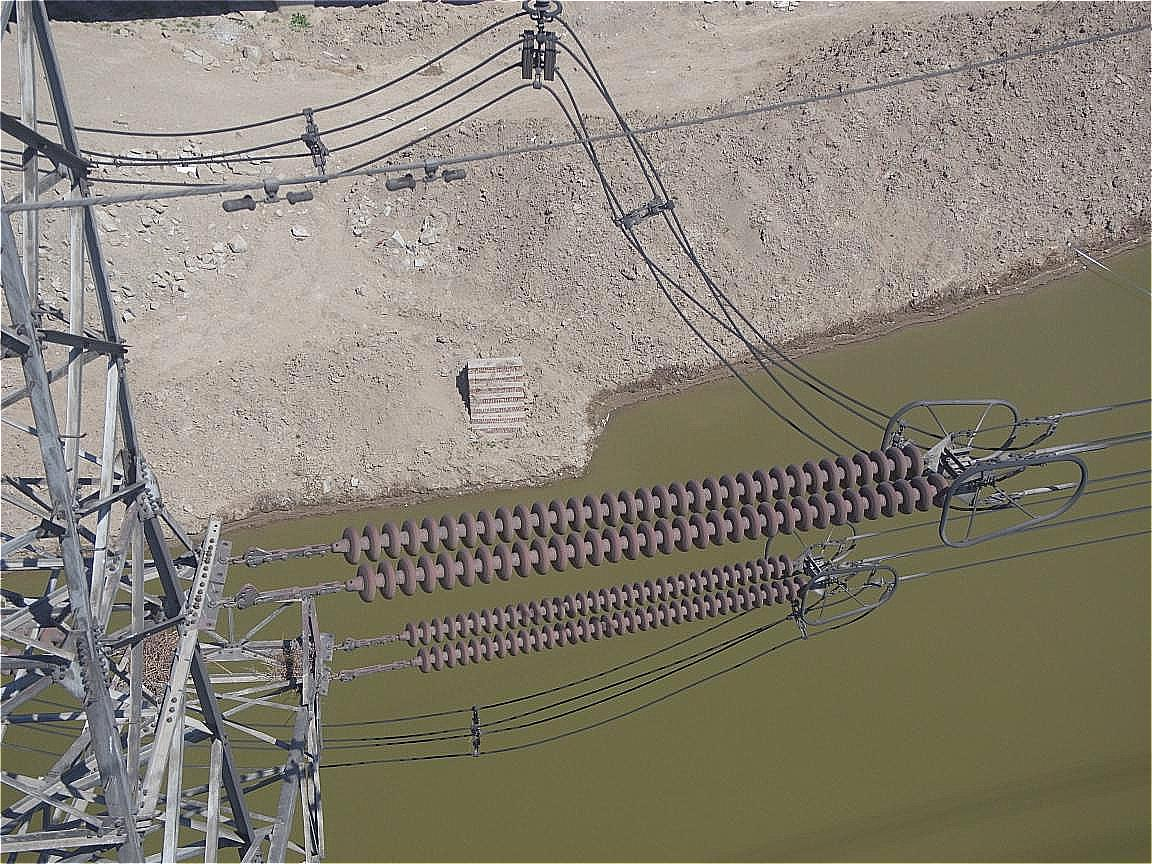insultor1: (310, 436, 971, 604), (395, 544, 816, 681)
